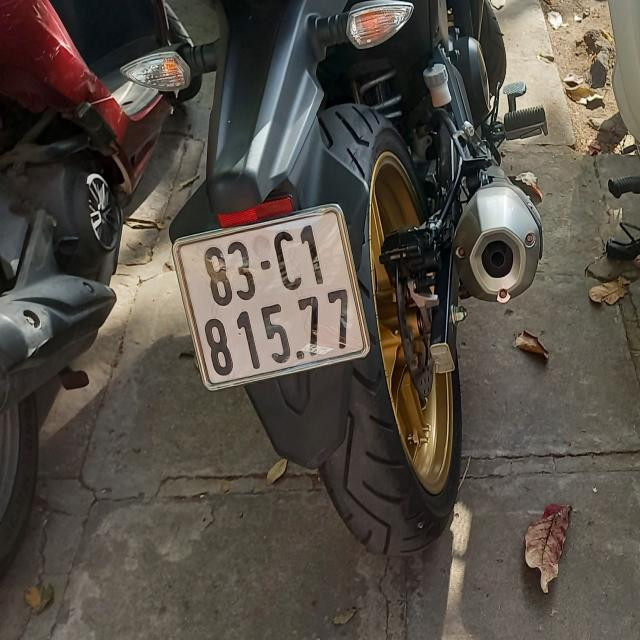1: (236, 310, 263, 373), (301, 226, 324, 284)
3: (229, 240, 256, 302)
5: (262, 302, 291, 365)
7: (327, 288, 347, 350), (299, 296, 318, 356)
8: (204, 317, 234, 381), (205, 246, 232, 306)
C: (274, 232, 302, 290)
